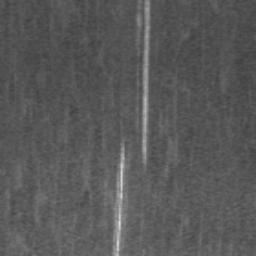Bright scratch: (142, 0, 150, 165), (114, 147, 124, 256)
